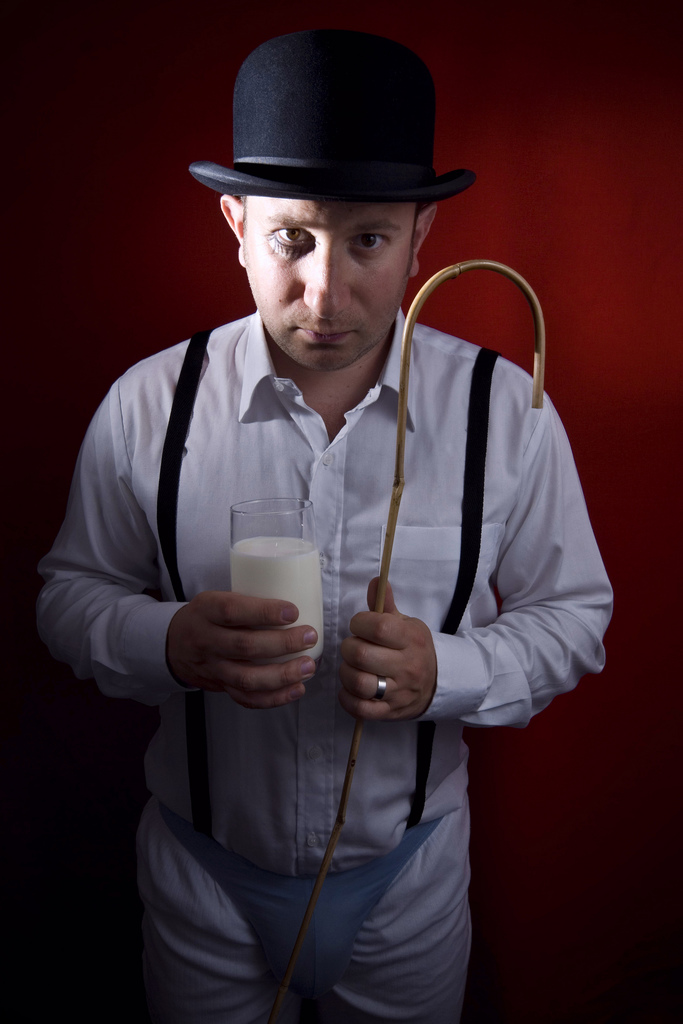glass of milk: (222, 509, 330, 670)
